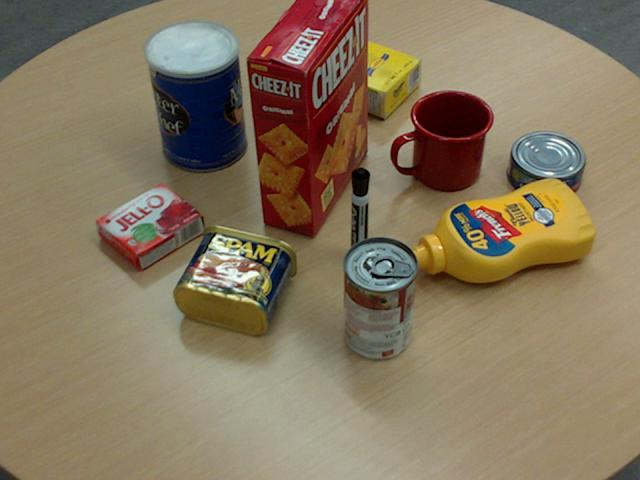cracker_box: (244, 0, 368, 236)
gelatin_box: (95, 181, 203, 269)
large_marker: (350, 168, 369, 262)
master_chef_can: (144, 20, 246, 172)
mug: (391, 89, 493, 190)
mustard_bottle: (404, 178, 593, 282)
potted_meat_can: (172, 224, 296, 333)
sugar_box: (269, 19, 421, 118)
tomato_soup_can: (342, 235, 416, 359)
tuna_fish_can: (506, 130, 584, 199)
